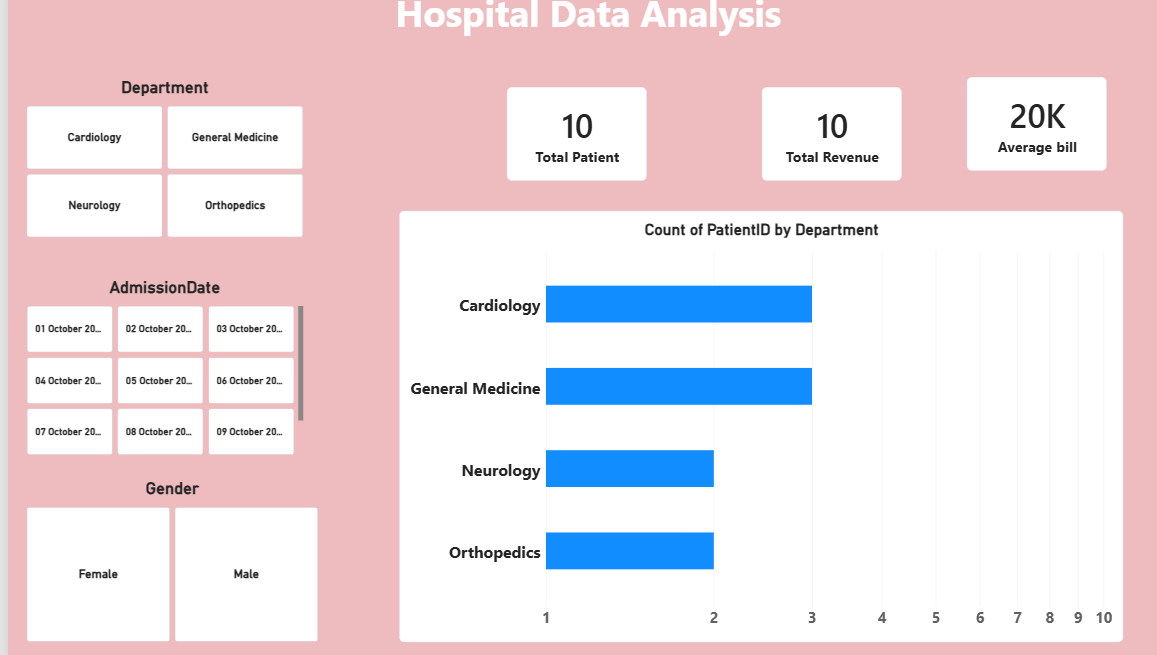

What the dashboard file says about the page in this screenshot:
{"tool":"powerbi","page":{"name":"Hospital_data_analysis","canvas":[1920,1080],"ordinal":0},"visuals":[{"type":"textbox","box":[0,0,1856,116],"z":0},{"type":"textbox","box":[10,290,280,280],"z":1000},{"type":"cardVisual","fields":{"Data":["hospitaldb hospital_data.Total Patient"]},"box":[798,160,224,150],"z":2000},{"type":"cardVisual","fields":{"Data":["hospitaldb hospital_data.Total Revenue"]},"box":[1206,160,224,150],"z":3000},{"type":"cardVisual","fields":{"Data":["hospitaldb hospital_data.Average bill"]},"box":[1534,144,224,150],"z":4000},{"type":"barChart","title":"Count of PatientID by Department","fields":{"Category":["hospitaldb hospital_data.Department"],"Y":["CountNonNull(hospitaldb hospital_data.ï»¿PatientID)"]},"box":[626,358,1158,690],"z":5000},{"type":"advancedSlicerVisual","fields":{"Values":["hospitaldb hospital_data.Department"]},"box":[30,144,442,258],"z":6000},{"type":"advancedSlicerVisual","fields":{"Values":["hospitaldb hospital_data.AdmissionDate"]},"box":[30,464,442,286],"z":7000},{"type":"advancedSlicerVisual","fields":{"Values":["hospitaldb hospital_data.Gender"]},"box":[30,786,466,262],"z":8000}]}

Visuals, with their boxes in screenshot pixels (x1, y1, x2, y2), scaled from the page's 1920x1080 canvas onto the 1157x655 screenshot:
textbox: 0/0/1118/70
textbox: 6/176/175/346
cardVisual - hospitaldb hospital_data.Total Patient: 481/97/616/188
cardVisual - hospitaldb hospital_data.Total Revenue: 727/97/862/188
cardVisual - hospitaldb hospital_data.Average bill: 924/87/1059/178
"Count of PatientID by Department" barChart: 377/217/1075/636
advancedSlicerVisual - hospitaldb hospital_data.Department: 18/87/284/244
advancedSlicerVisual - hospitaldb hospital_data.AdmissionDate: 18/281/284/455
advancedSlicerVisual - hospitaldb hospital_data.Gender: 18/477/299/636
